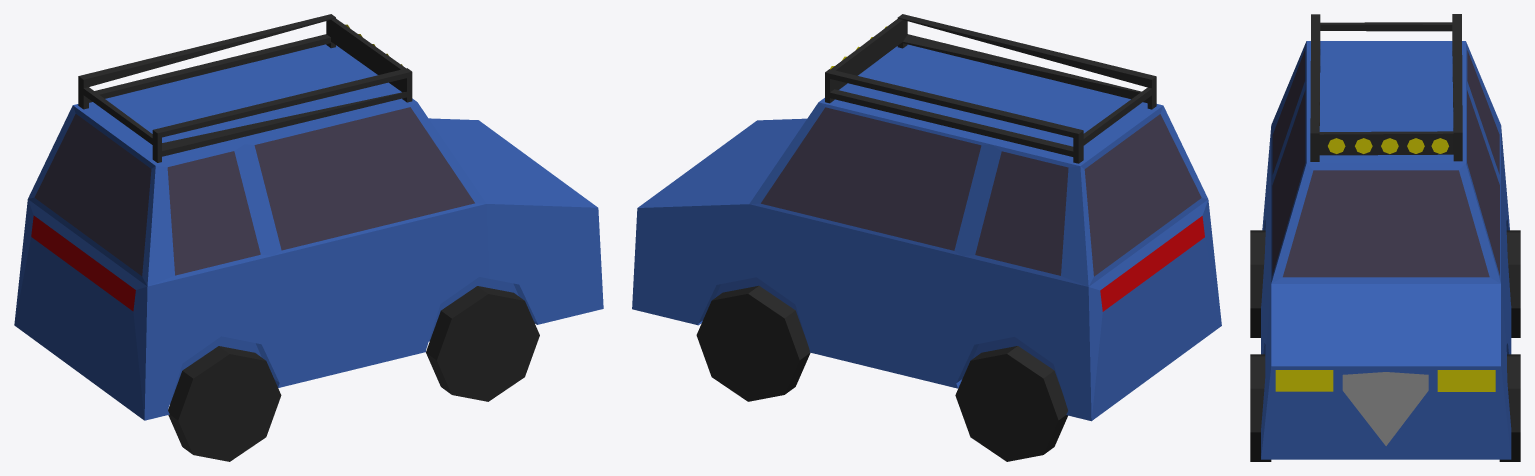
File: jeep.fbx
3 renders of one model, left to right at view 1: azimuth 30°, elevation 25°; view 2: azimuth 150°, elevation 25°; view 3: azimuth 270°, elevation 25°, orthographic. The views are drawn at different scales.
Parts seen in each view (by area): view 1: Cylinder.003; view 2: Cylinder.003; view 3: Cylinder.003.
Part boxes in pixels (x1=…): Cylinder.003: x1=14, y1=14, x2=603, y2=461; Cylinder.003: x1=632, y1=14, x2=1221, y2=461; Cylinder.003: x1=1250, y1=14, x2=1520, y2=461.
Bounding box in the file's own units: 564 × 374 × 300.
